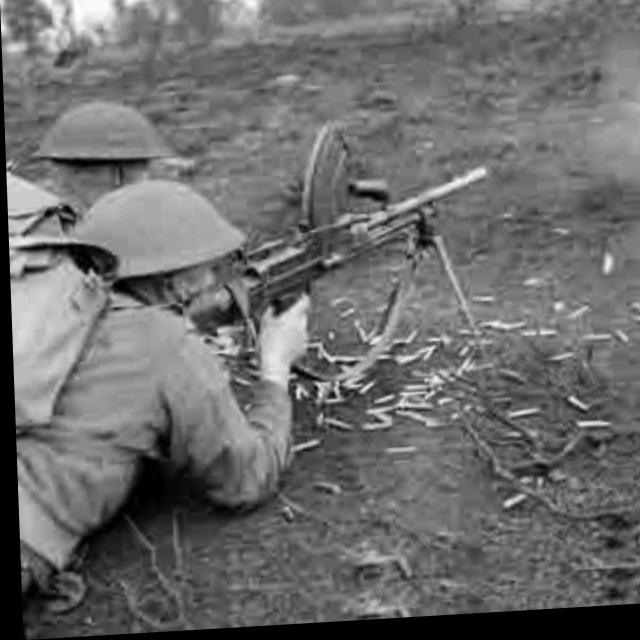other: (10, 138, 274, 604)
